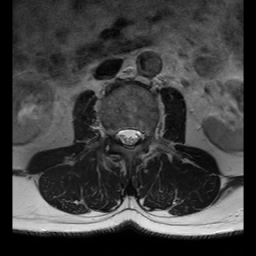CCS_normal: (124, 120, 132, 155)
LFS_stenosis: (141, 124, 151, 146)
LLS_normal: (132, 122, 141, 150)
RFS_normal: (107, 120, 116, 145)
RLS_normal: (116, 123, 124, 147)
